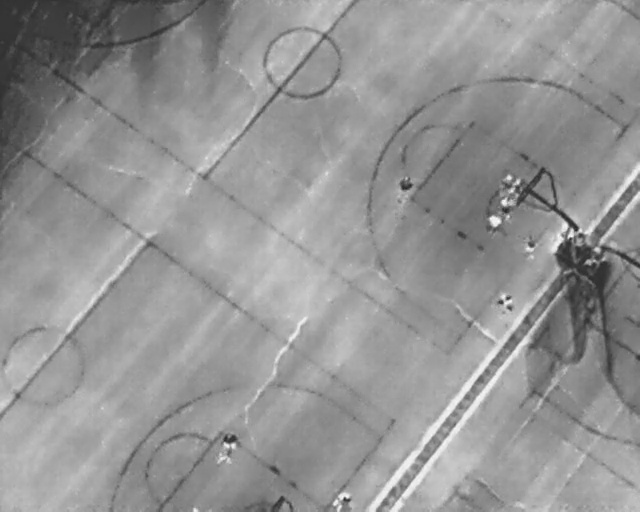Person: (331, 490, 351, 512), (497, 293, 515, 313), (224, 430, 238, 453), (487, 212, 503, 230), (525, 235, 536, 257), (400, 175, 412, 194), (502, 197, 513, 217), (502, 172, 513, 192), (515, 177, 525, 198)
